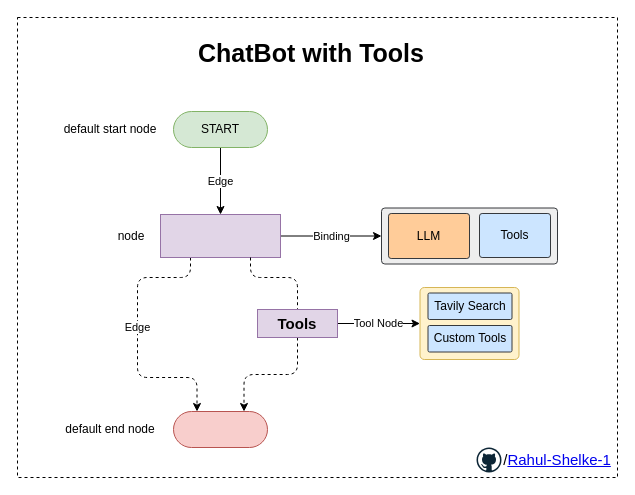
The diagram is 635 pixels wide and 495 high, and some of its shapes have lost their labels. The shapes that lost their labels are listed below. From the top down, each one's centre as x and y in pixels, then its label:
At (x=220, y=236): "Tool calling llm".
At (x=220, y=429): "END".
